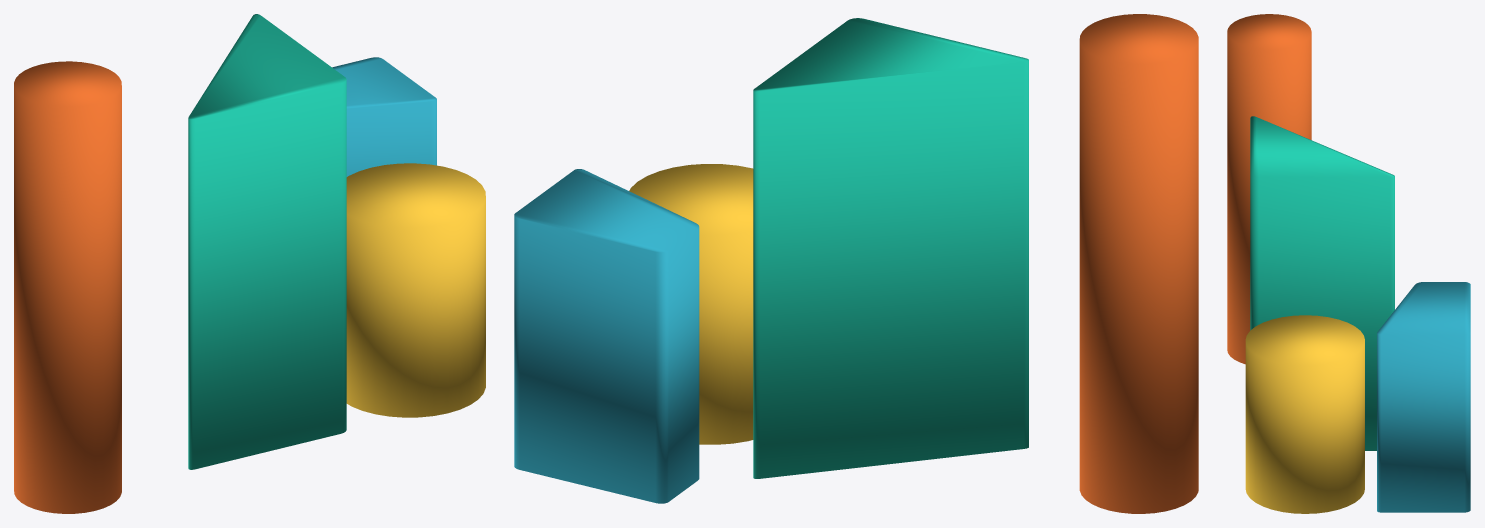
Rendered from hero-scene1.glb.
3 views of the same model, side by side, from view 1: azimuth 30°, elevation 25°; view 2: azimuth 150°, elevation 25°; view 3: azimuth 270°, elevation 25° (orthographic). The views are drawn at different scales.
Visible parts, largest first — view 1: green triangle, orange cylinder, yellow cylinder, blue shape; view 2: green triangle, orange cylinder, blue shape, yellow cylinder; view 3: green triangle, yellow cylinder, blue shape, orange cylinder.
Part boxes in pixels (x1,y1,x2,y2): green triangle: (188, 14, 346, 469); orange cylinder: (14, 61, 121, 513); yellow cylinder: (346, 163, 485, 417); blue shape: (332, 57, 436, 176); green triangle: (753, 18, 1028, 478); orange cylinder: (1079, 14, 1198, 513); blue shape: (514, 169, 699, 503); yellow cylinder: (629, 164, 753, 444); green triangle: (1250, 116, 1394, 450); yellow cylinder: (1245, 315, 1364, 513); blue shape: (1377, 282, 1470, 512); orange cylinder: (1227, 14, 1311, 364).
Size of what is drawn, in the model's own units: 2.98 by 2.38 by 1.66.
